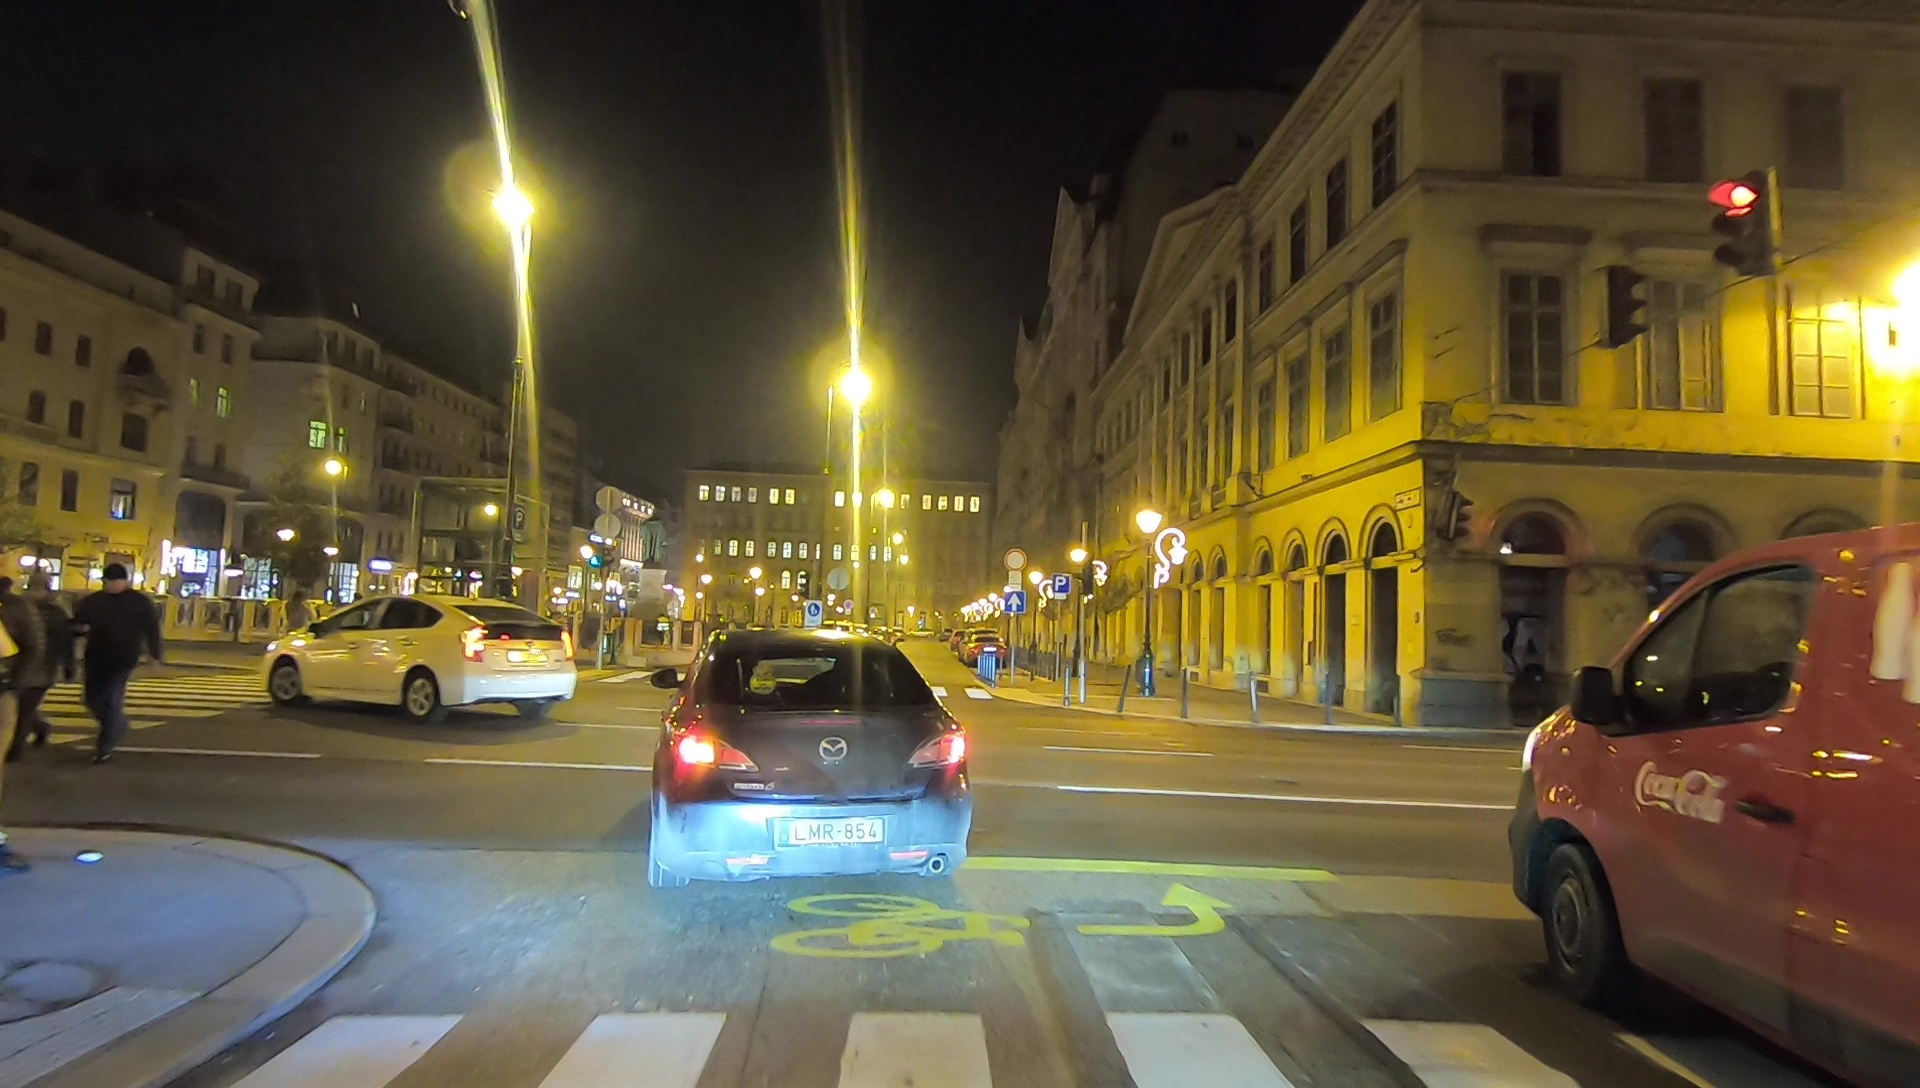person: (78, 565, 158, 758), (19, 574, 65, 760)
